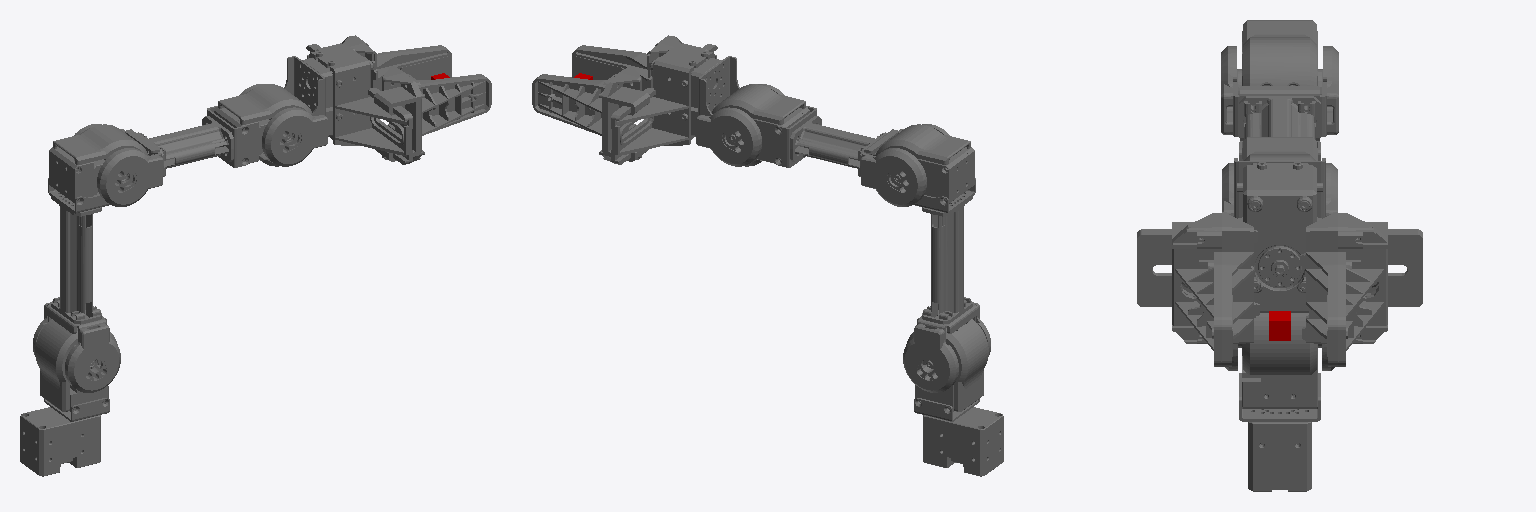
URDF robot description (left_open_manipulator):
<robot name="left_open_manipulator" version="1.0">
  <joint name="left_end_effector_joint" type="fixed">
    <origin rpy="-0.00000 0.00000 0.00000" xyz="0.12600 0.00000 -0.00000"/>
    <parent link="left_link5"/>
    <child link="left_end_effector_link"/>
  </joint>
  <joint name="left_gripper" type="prismatic">
    <limit lower="-0.01000" upper="0.01900" effort="1" velocity="4.80000"/>
    <origin rpy="-0.00000 0.00000 0.00000" xyz="0.08170 0.02100 -0.00000"/>
    <parent link="left_link5"/>
    <child link="left_gripper_link"/>
    <axis xyz="0.00000 1.00000 0.00000"/>
  </joint>
  <joint name="left_gripper_sub" type="prismatic">
    <limit lower="-0.01000" upeper="0.01900" effort="1" velocity="4.80000"/>
    <mimic multiplier="1.00000" offset="0.00000" joint="left_gripper"/>
    <origin rpy="-0.00000 0.00000 0.00000" xyz="0.08170 -0.02100 0.00000"/>
    <parent link="left_link5"/>
    <child link="left_gripper_link_sub"/>
    <axis xyz="0.00000 -1.00000 0.00000"/>
  </joint>
  <joint name="left_joint1" type="revolute">
    <limit lower="-2.82743" upper="2.82743" effort="1" velocity="4.80000"/>
    <origin rpy="-0.00000 0.00000 0.00000" xyz="0.01200 -0.00000 0.01700"/>
    <parent link="left_base_link"/>
    <child link="left_link2"/>
    <axis xyz="0.00000 0.00000 1.00000"/>
  </joint>
  <joint name="left_joint2" type="revolute">
    <limit lower="-1.79071" upper="1.57080" effort="1" velocity="4.80000"/>
    <origin rpy="-0.00000 0.00000 0.00000" xyz="-0.00000 0.00000 0.05950"/>
    <parent link="left_link2"/>
    <child link="left_link3"/>
    <axis xyz="0.00000 1.00000 0.00000"/>
  </joint>
  <joint name="left_joint3" type="revolute">
    <limit lower="-0.94248" upper="1.38230" effort="1" velocity="4.80000"/>
    <origin rpy="-0.00000 0.00000 0.00000" xyz="0.02400 0.00000 0.12800"/>
    <parent link="left_link3"/>
    <child link="left_link4"/>
    <axis xyz="0.00000 1.00000 0.00000"/>
  </joint>
  <joint name="left_joint4" type="revolute">
    <limit lower="-1.79071" upper="2.04204" effort="1" velocity="4.80000"/>
    <origin rpy="-0.00000 0.00000 0.00000" xyz="0.12400 0.00000 -0.00000"/>
    <parent link="left_link4"/>
    <child link="left_link5"/>
    <axis xyz="0.00000 1.00000 0.00000"/>
  </joint>
  <link name="left_base_link">
    <collision name="left_base_link_collision">
      <origin rpy="-0.00000 0.00000 0.00000" xyz="0.00000 0.00000 0.00000"/>
      <geometry>
        <mesh filename="package://marvin/meshes/stl/chain_link1.stl" scale="0.00100 0.00100 0.00100"/>
      </geometry>
    </collision>
    <inertial>
      <inertia ixx="0.00001" ixy="0.00000" ixz="-0.00000" iyy="0.00002" iyz="0.00000" izz="0.00002"/>
      <origin rpy="0.00000 0.00000 0.00000" xyz="0.00031 0.00000 -0.00012"/>
      <mass value="0.07912"/>
    </inertial>
    <visual name="left_base_link_visual">
      <origin rpy="-0.00000 0.00000 0.00000" xyz="0.00000 0.00000 0.00000"/>
      <material name="grey"/>
      <geometry>
        <mesh filename="package://marvin/meshes/stl/chain_link1.stl" scale="0.00100 0.00100 0.00100"/>
      </geometry>
    </visual>
  </link>
  <link name="left_end_effector_link">
    <inertial>
      <inertia ixx="0.00100" ixy="0.00000" ixz="0.00000" iyy="0.00100" iyz="0.00000" izz="0.00100"/>
      <origin rpy="0.00000 0.00000 0.00000" xyz="0.00000 0.00000 0.00000"/>
      <mass value="0.00100"/>
    </inertial>
    <visual name="left_end_effector_link_visual">
      <origin rpy="-0.00000 0.00000 0.00000" xyz="0.00000 0.00000 0.00000"/>
      <material name="red"/>
      <geometry>
        <box size="0.01000 0.01000 0.01000"/>
      </geometry>
    </visual>
  </link>
  <link name="left_gripper_link">
    <collision name="left_gripper_link_collision">
      <origin rpy="-0.00000 0.00000 0.00000" xyz="0.00000 0.00000 -0.00000"/>
      <geometry>
        <mesh filename="package://marvin/meshes/stl/chain_link_grip_l.stl" scale="0.00100 0.00100 0.00100"/>
      </geometry>
    </collision>
    <inertial>
      <inertia ixx="0.00100" ixy="0.00000" ixz="0.00000" iyy="0.00100" iyz="0.00000" izz="0.00100"/>
      <origin rpy="0.00000 0.00000 0.00000" xyz="0.00000 0.00000 0.00000"/>
      <mass value="0.00100"/>
    </inertial>
    <visual name="left_gripper_link_visual">
      <origin rpy="-0.00000 0.00000 0.00000" xyz="0.00000 0.00000 -0.00000"/>
      <material name="grey"/>
      <geometry>
        <mesh filename="package://marvin/meshes/stl/chain_link_grip_l.stl" scale="0.00100 0.00100 0.00100"/>
      </geometry>
    </visual>
  </link>
  <link name="left_gripper_link_sub">
    <collision name="left_gripper_link_sub_collision">
      <origin rpy="-0.00000 0.00000 0.00000" xyz="0.00000 0.00000 0.00000"/>
      <geometry>
        <mesh filename="package://marvin/meshes/stl/chain_link_grip_r.stl" scale="0.00100 0.00100 0.00100"/>
      </geometry>
    </collision>
    <inertial>
      <inertia ixx="0.00100" ixy="0.00000" ixz="0.00000" iyy="0.00100" iyz="0.00000" izz="0.00100"/>
      <origin rpy="0.00000 0.00000 0.00000" xyz="0.00000 0.00000 0.00000"/>
      <mass value="0.00100"/>
    </inertial>
    <visual name="left_gripper_link_sub_visual">
      <origin rpy="-0.00000 0.00000 0.00000" xyz="0.00000 0.00000 0.00000"/>
      <material name="grey"/>
      <geometry>
        <mesh filename="package://marvin/meshes/stl/chain_link_grip_r.stl" scale="0.00100 0.00100 0.00100"/>
      </geometry>
    </visual>
  </link>
  <link name="left_link2">
    <collision name="left_link2_collision">
      <origin rpy="-0.00000 0.00000 0.00000" xyz="0.00000 -0.00000 0.01900"/>
      <geometry>
        <mesh filename="package://marvin/meshes/stl/chain_link2.stl" scale="0.00100 0.00100 0.00100"/>
      </geometry>
    </collision>
    <inertial>
      <inertia ixx="0.00003" ixy="-0.00000" ixz="-0.00000" iyy="0.00003" iyz="0.00000" izz="0.00002"/>
      <origin rpy="0.00000 0.00000 0.00000" xyz="-0.00030 0.00054 0.04743"/>
      <mass value="0.09841"/>
    </inertial>
    <visual name="left_link2_visual">
      <origin rpy="-0.00000 0.00000 0.00000" xyz="0.00000 -0.00000 0.01900"/>
      <material name="grey"/>
      <geometry>
        <mesh filename="package://marvin/meshes/stl/chain_link2.stl" scale="0.00100 0.00100 0.00100"/>
      </geometry>
    </visual>
  </link>
  <link name="left_link3">
    <collision name="left_link3_collision">
      <origin rpy="-0.00000 0.00000 0.00000" xyz="0.00000 -0.00000 0.00000"/>
      <geometry>
        <mesh filename="package://marvin/meshes/stl/chain_link3.stl" scale="0.00100 0.00100 0.00100"/>
      </geometry>
    </collision>
    <inertial>
      <inertia ixx="0.00033" ixy="-0.00000" ixz="-0.00004" iyy="0.00034" iyz="-0.00000" izz="0.00006"/>
      <origin rpy="0.00000 0.00000 0.00000" xyz="0.01031 0.00038 0.10170"/>
      <mass value="0.13851"/>
    </inertial>
    <visual name="left_link3_visual">
      <origin rpy="-0.00000 0.00000 0.00000" xyz="0.00000 -0.00000 0.00000"/>
      <material name="grey"/>
      <geometry>
        <mesh filename="package://marvin/meshes/stl/chain_link3.stl" scale="0.00100 0.00100 0.00100"/>
      </geometry>
    </visual>
  </link>
  <link name="left_link4">
    <collision name="left_link4_collision">
      <origin rpy="-0.00000 0.00000 0.00000" xyz="0.00000 0.00000 0.00000"/>
      <geometry>
        <mesh filename="package://marvin/meshes/stl/chain_link4.stl" scale="0.00100 0.00100 0.00100"/>
      </geometry>
    </collision>
    <inertial>
      <inertia ixx="0.00003" ixy="-0.00000" ixz="-0.00000" iyy="0.00024" iyz="0.00000" izz="0.00025"/>
      <origin rpy="0.00000 0.00000 0.00000" xyz="0.09091 0.00039 0.00022"/>
      <mass value="0.13275"/>
    </inertial>
    <visual name="left_link4_visual">
      <origin rpy="-0.00000 0.00000 0.00000" xyz="0.00000 0.00000 0.00000"/>
      <material name="grey"/>
      <geometry>
        <mesh filename="package://marvin/meshes/stl/chain_link4.stl" scale="0.00100 0.00100 0.00100"/>
      </geometry>
    </visual>
  </link>
  <link name="left_link5">
    <collision name="left_link5_collision">
      <origin rpy="-0.00000 0.00000 0.00000" xyz="0.00000 0.00000 0.00000"/>
      <geometry>
        <mesh filename="package://marvin/meshes/stl/chain_link5.stl" scale="0.00100 0.00100 0.00100"/>
      </geometry>
    </collision>
    <inertial>
      <inertia ixx="0.00008" ixy="0.00000" ixz="-0.00000" iyy="0.00008" iyz="0.00000" izz="0.00009"/>
      <origin rpy="0.00000 0.00000 0.00000" xyz="0.04421 0.00000 0.00891"/>
      <mass value="0.14328"/>
    </inertial>
    <visual name="left_link5_visual">
      <origin rpy="-0.00000 0.00000 0.00000" xyz="0.00000 0.00000 0.00000"/>
      <material name="grey"/>
      <geometry>
        <mesh filename="package://marvin/meshes/stl/chain_link5.stl" scale="0.00100 0.00100 0.00100"/>
      </geometry>
    </visual>
  </link>
  <material name="grey">
    <color rgba="0.49804 0.49804 0.49804 1.00000"/>
  </material>
  <material name="red">
    <color rgba="0.80000 0.00000 0.00000 1.00000"/>
  </material>
</robot>

--- Render facts (derived) ---
3 views of the same robot in one strip: view 1: azimuth 30°, elevation 25°; view 2: azimuth 150°, elevation 25°; view 3: azimuth 270°, elevation 25° (orthographic).
Robot: left_open_manipulator — 8 links, 7 joints (4 revolute, 2 prismatic, 1 fixed); root link left_base_link; default pose: all joints at 0.
Visible links, largest first — view 1: left_link3, left_link5, left_link4, left_gripper_link_sub, left_base_link, left_link2, left_gripper_link; view 2: left_link3, left_link5, left_link4, left_gripper_link, left_base_link, left_link2, left_gripper_link_sub; view 3: left_link5, left_gripper_link, left_gripper_link_sub, left_link4, left_link2, left_link3, left_base_link, left_end_effector_link.
Link boxes in pixels (x1=…): left_link3: x1=33, y1=124, x2=148, y2=392; left_link5: x1=239, y1=44, x2=412, y2=166; left_link4: x1=74, y1=84, x2=311, y2=206; left_gripper_link_sub: x1=374, y1=66, x2=491, y2=161; left_base_link: x1=20, y1=407, x2=100, y2=476; left_link2: x1=35, y1=319, x2=117, y2=421; left_gripper_link: x1=316, y1=35, x2=451, y2=90; left_link3: x1=875, y1=124, x2=990, y2=392; left_link5: x1=611, y1=44, x2=784, y2=166; left_link4: x1=712, y1=84, x2=949, y2=206; left_gripper_link: x1=532, y1=66, x2=649, y2=161; left_base_link: x1=923, y1=407, x2=1003, y2=476; left_link2: x1=906, y1=319, x2=988, y2=421; left_gripper_link_sub: x1=572, y1=35, x2=707, y2=90; left_link5: x1=1137, y1=158, x2=1422, y2=312; left_gripper_link: x1=1300, y1=212, x2=1387, y2=366; left_gripper_link_sub: x1=1172, y1=212, x2=1259, y2=366; left_link4: x1=1221, y1=46, x2=1338, y2=160; left_link2: x1=1238, y1=313, x2=1321, y2=421; left_link3: x1=1225, y1=20, x2=1334, y2=370; left_base_link: x1=1248, y1=422, x2=1311, y2=491; left_end_effector_link: x1=1269, y1=311, x2=1290, y2=340.
Bounding box of the posed robot: 0.33 × 0.1286 × 0.2442 m (x, y, z).
7 mesh visuals loaded from 7 distinct referenced files (7 binary STL).
